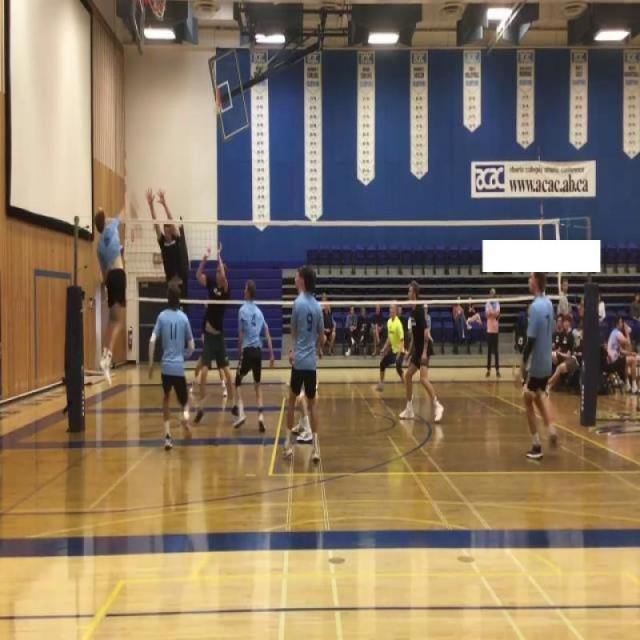volleyball: (129, 192, 145, 240)
